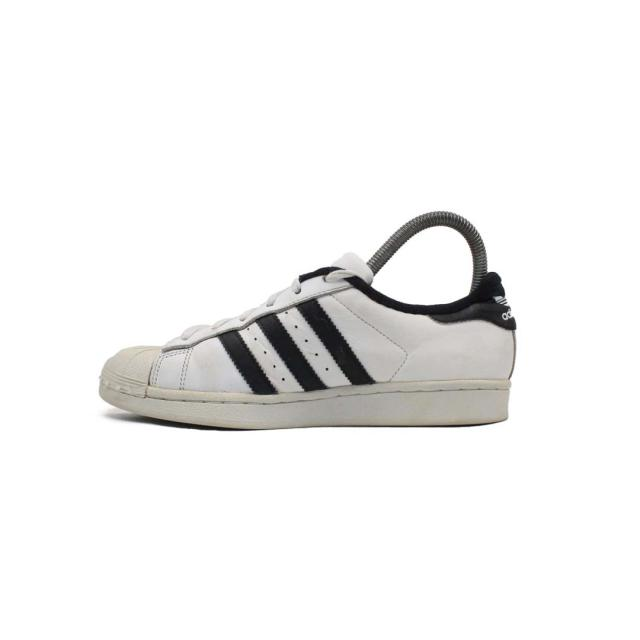heel: (490, 246, 519, 389)
midsole: (78, 392, 524, 439)
uppersole: (69, 253, 486, 385)
